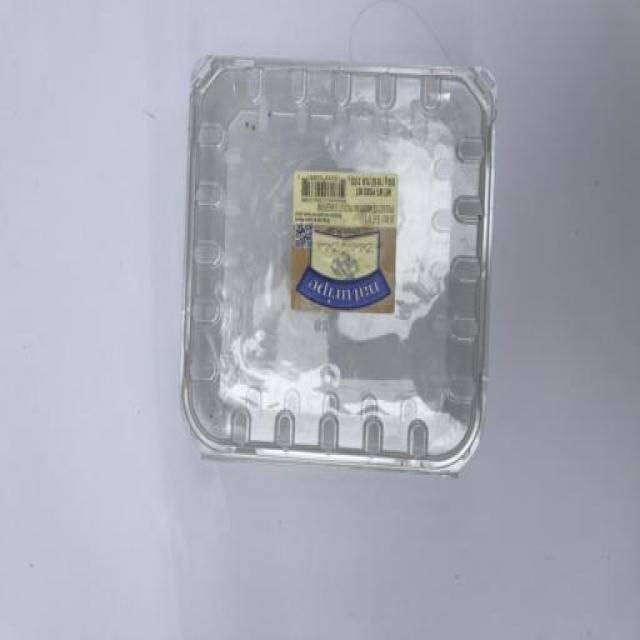plastic_bottle: (144, 31, 542, 508)
